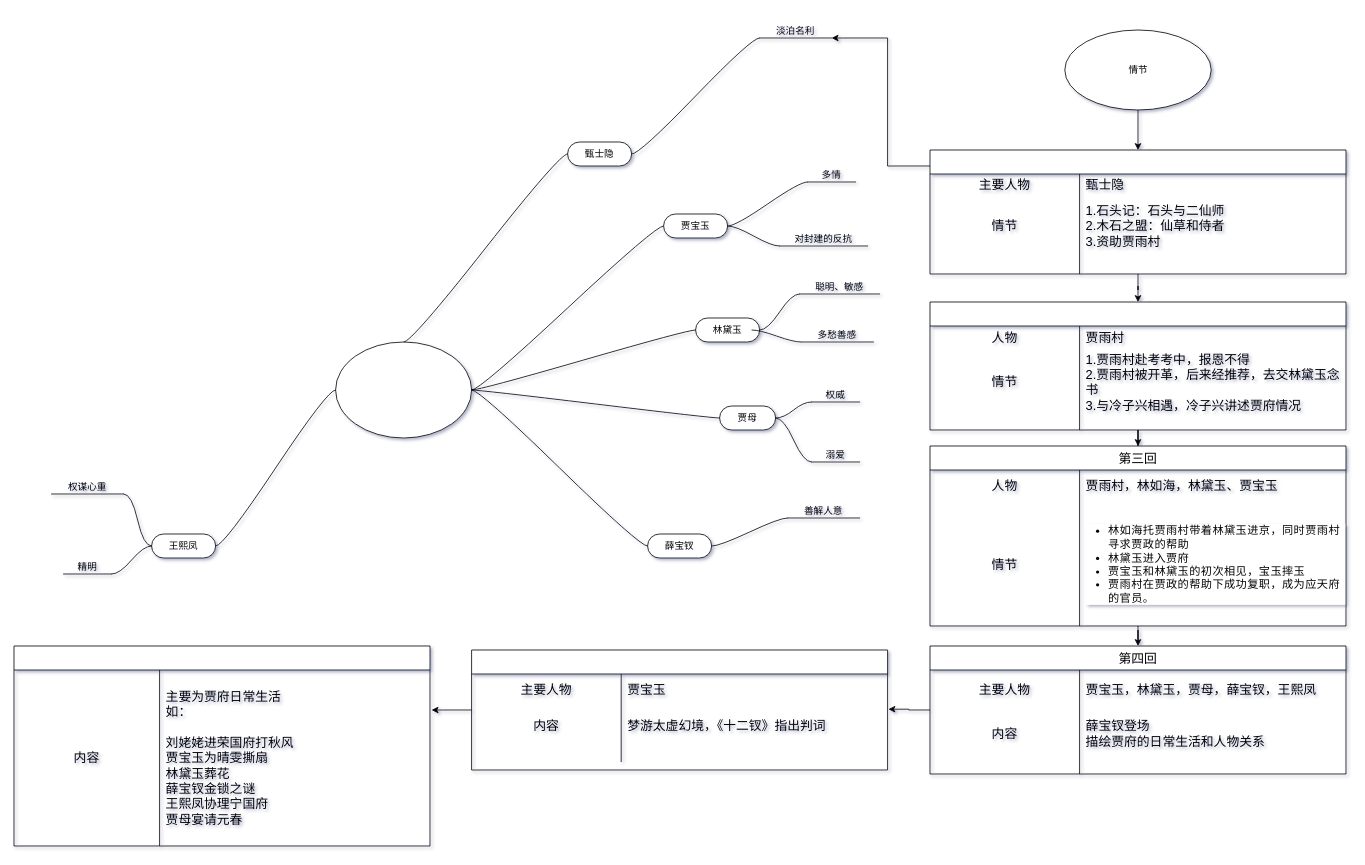
Image size: 1365x865. Some labels were removed from this diagram. The box of each missing label's shape, as (x1, y1, x2, y2) in pixels:
人物个性: (335, 341, 472, 438)
第6～15回: (13, 645, 430, 846)
第一回: (929, 149, 1346, 274)
第二回: (929, 301, 1346, 430)
第五回: (471, 649, 888, 770)
